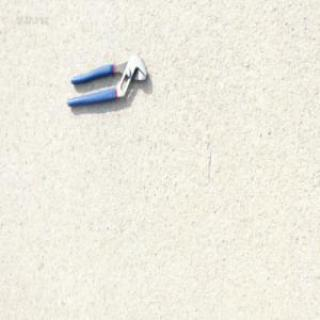Pliertrack_idkeyframe: (65, 51, 148, 108)
